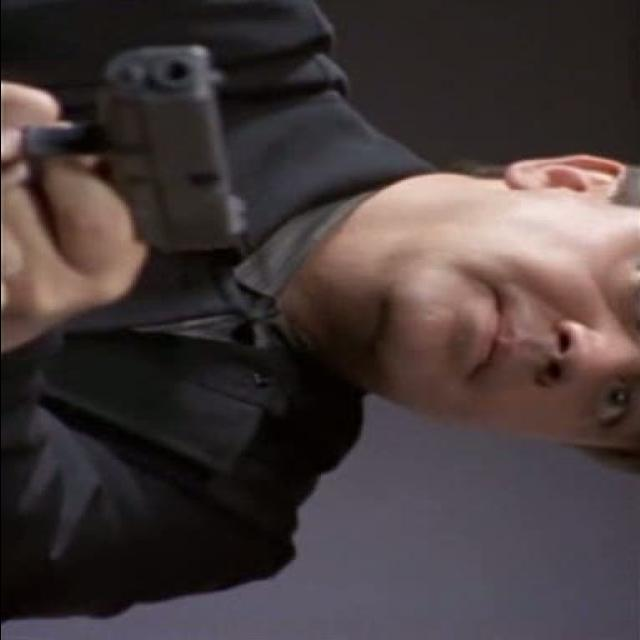weapons: (28, 21, 280, 274)
